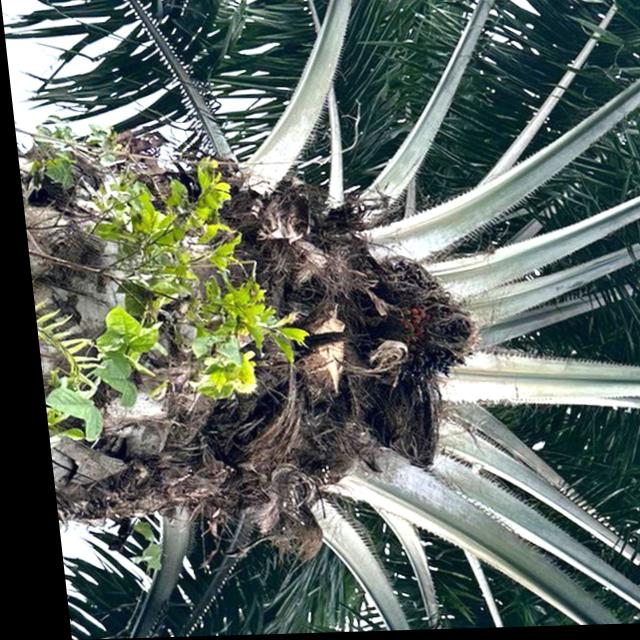almost: (357, 257, 475, 386)
